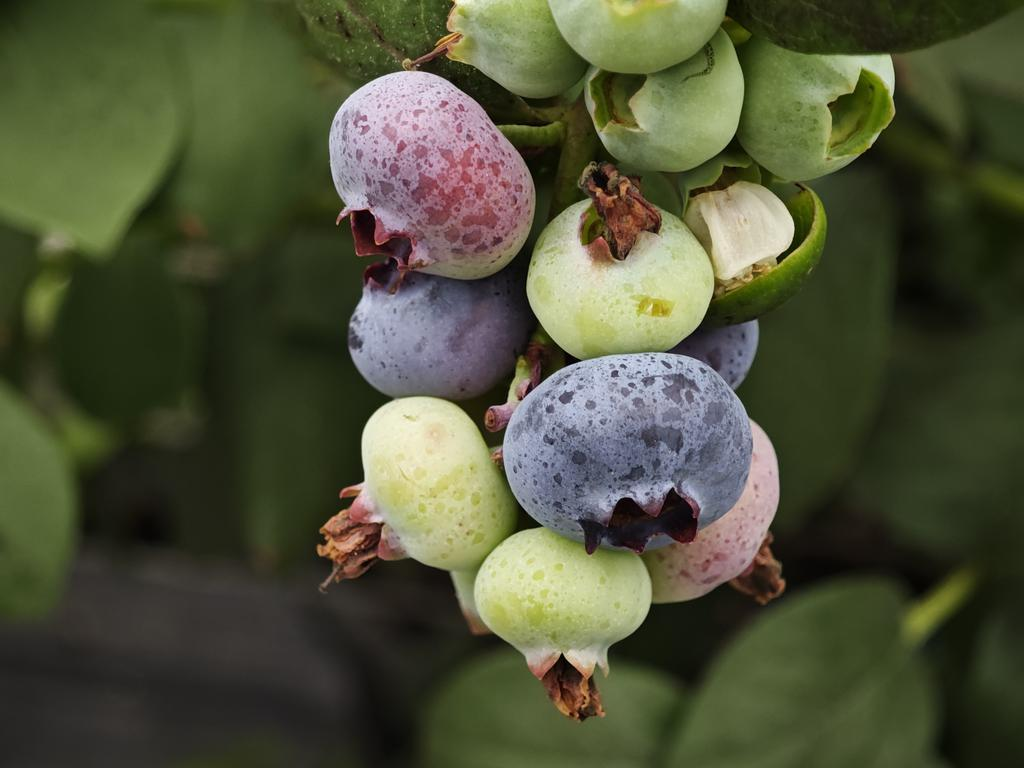RipeBlueBerry: (499, 348, 754, 547)
Semi-RipeBlueBerry: (324, 65, 539, 285)
UnripeBlueBerry: (525, 183, 716, 357), (470, 527, 656, 690)
